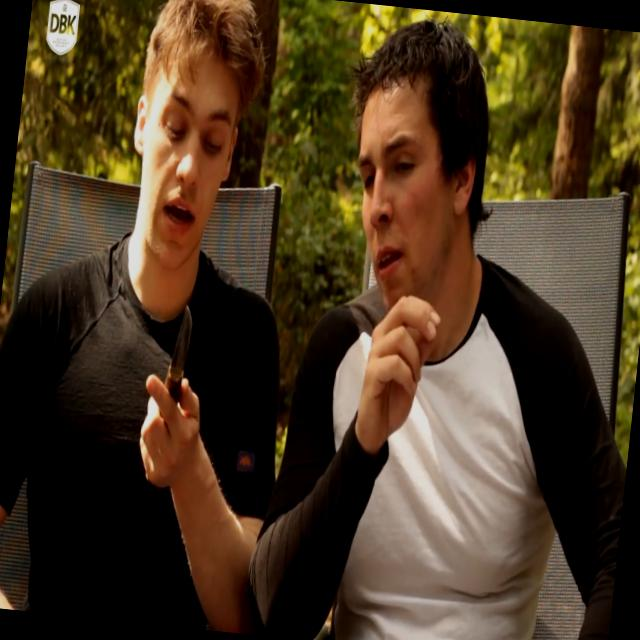knife: (134, 292, 210, 479)
